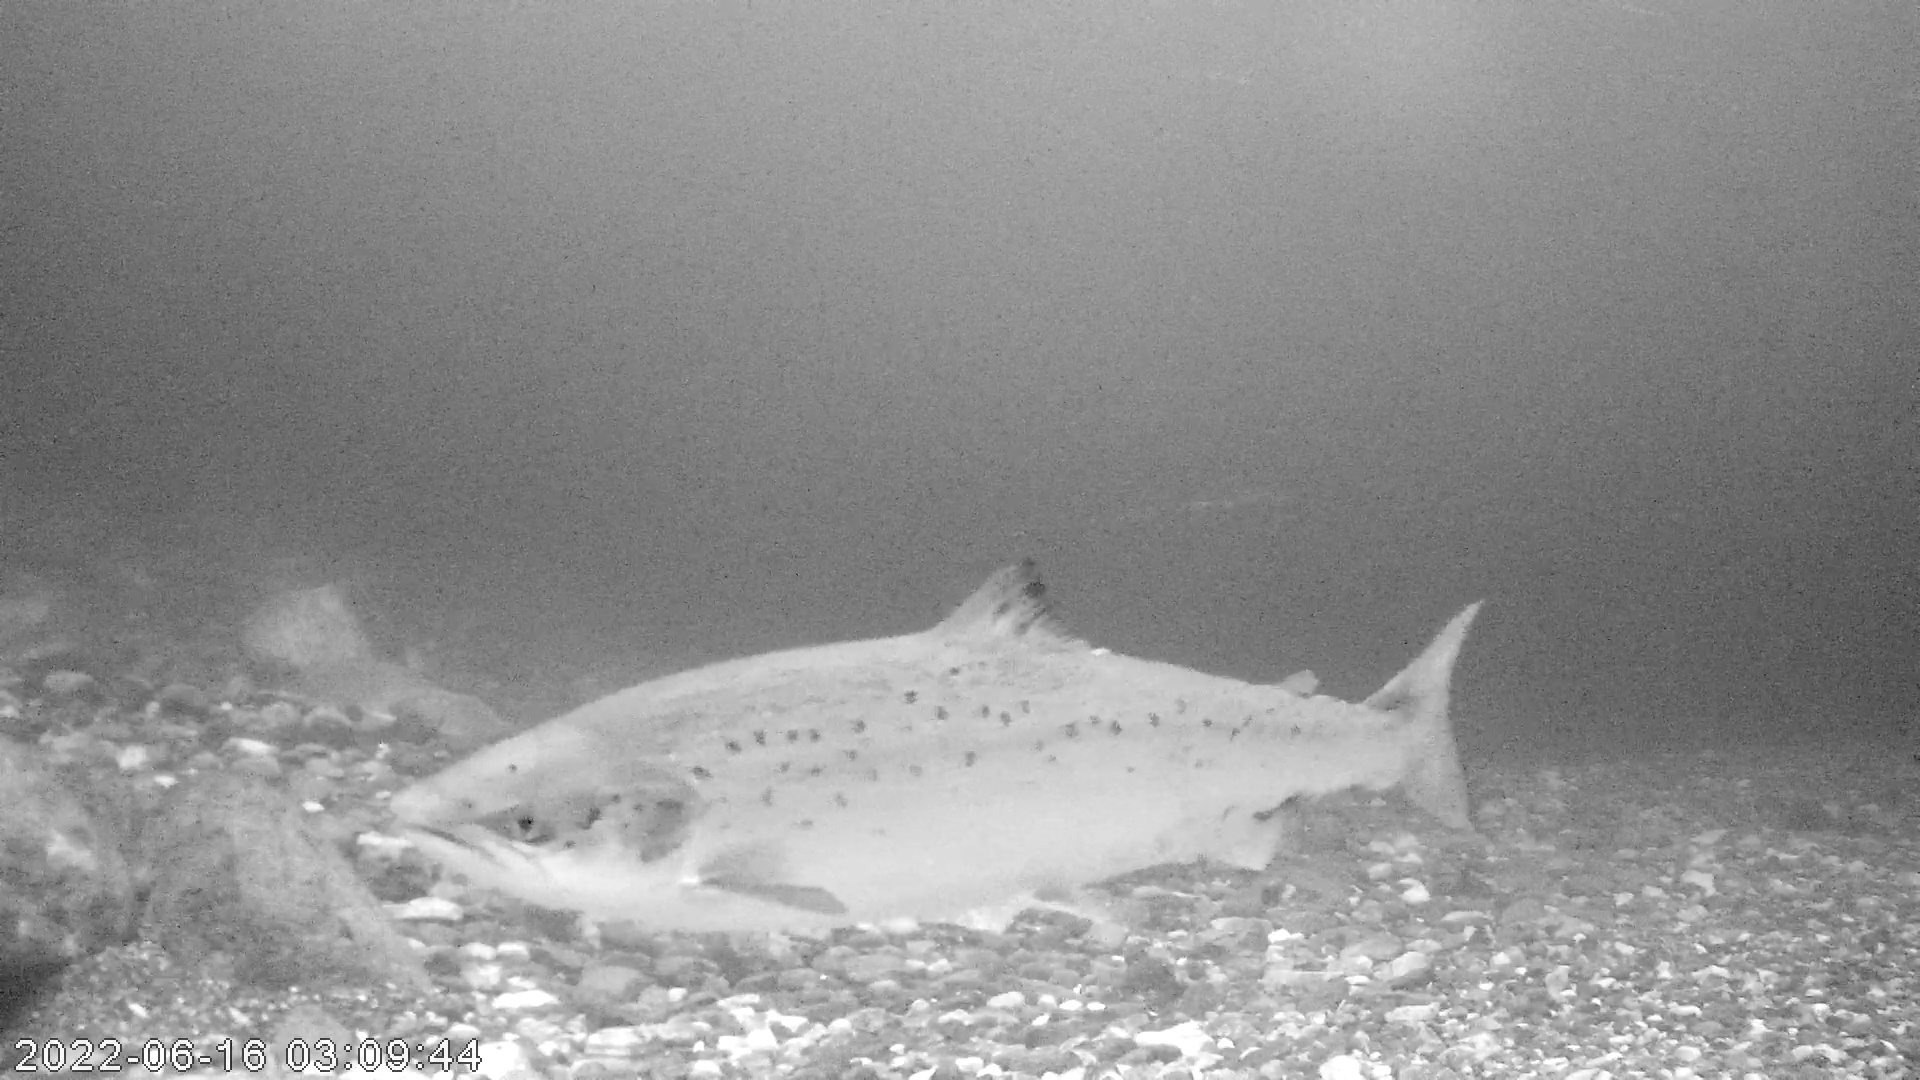salmon: (386, 555, 1487, 935)
